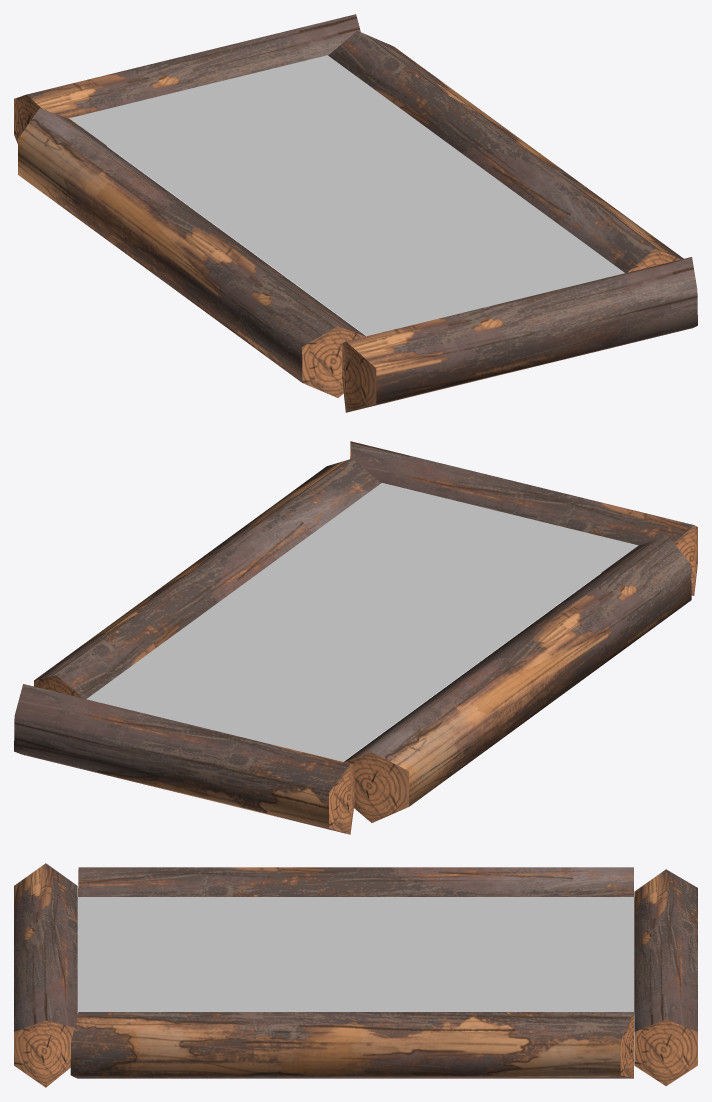
Rendered from raisedBed01.fbx.
3 views of the same model, one above another, from view 1: azimuth 30°, elevation 25°; view 2: azimuth 150°, elevation 25°; view 3: azimuth 270°, elevation 25° (orthographic). The views are drawn at different scales.
Parts seen in each view (by area): view 1: raisedBed01; view 2: raisedBed01; view 3: raisedBed01.
Part boxes in pixels (<box>): raisedBed01: <box>14,14,697,412</box>; raisedBed01: <box>14,441,697,834</box>; raisedBed01: <box>14,863,697,1087</box>.
Bounding box in the file's own units: 219 × 39.66 × 369.
